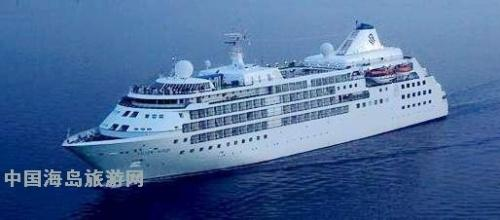youlun: (60, 24, 451, 185)
